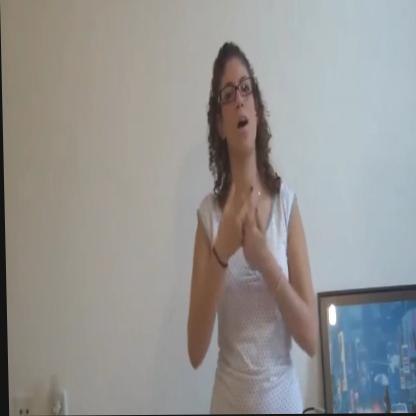HowAreYou: (206, 175, 275, 271)
